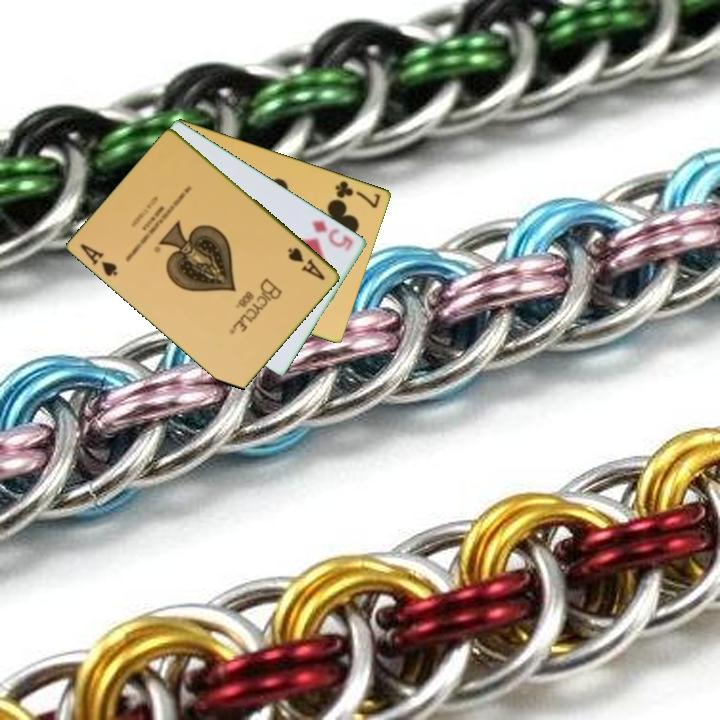5d: (308, 216, 357, 255)
7c: (332, 177, 383, 211)
As: (285, 244, 329, 283), (77, 240, 121, 279)
